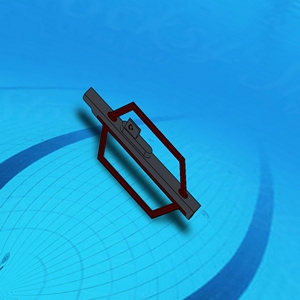submarine: (87, 88, 204, 222)
